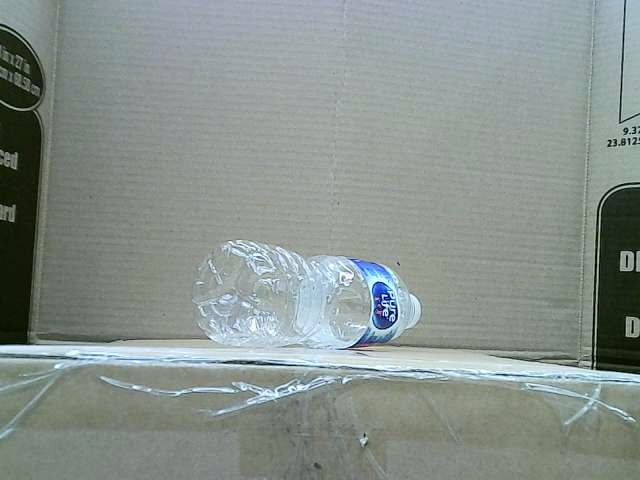WaterBottle: (192, 237, 424, 345)
